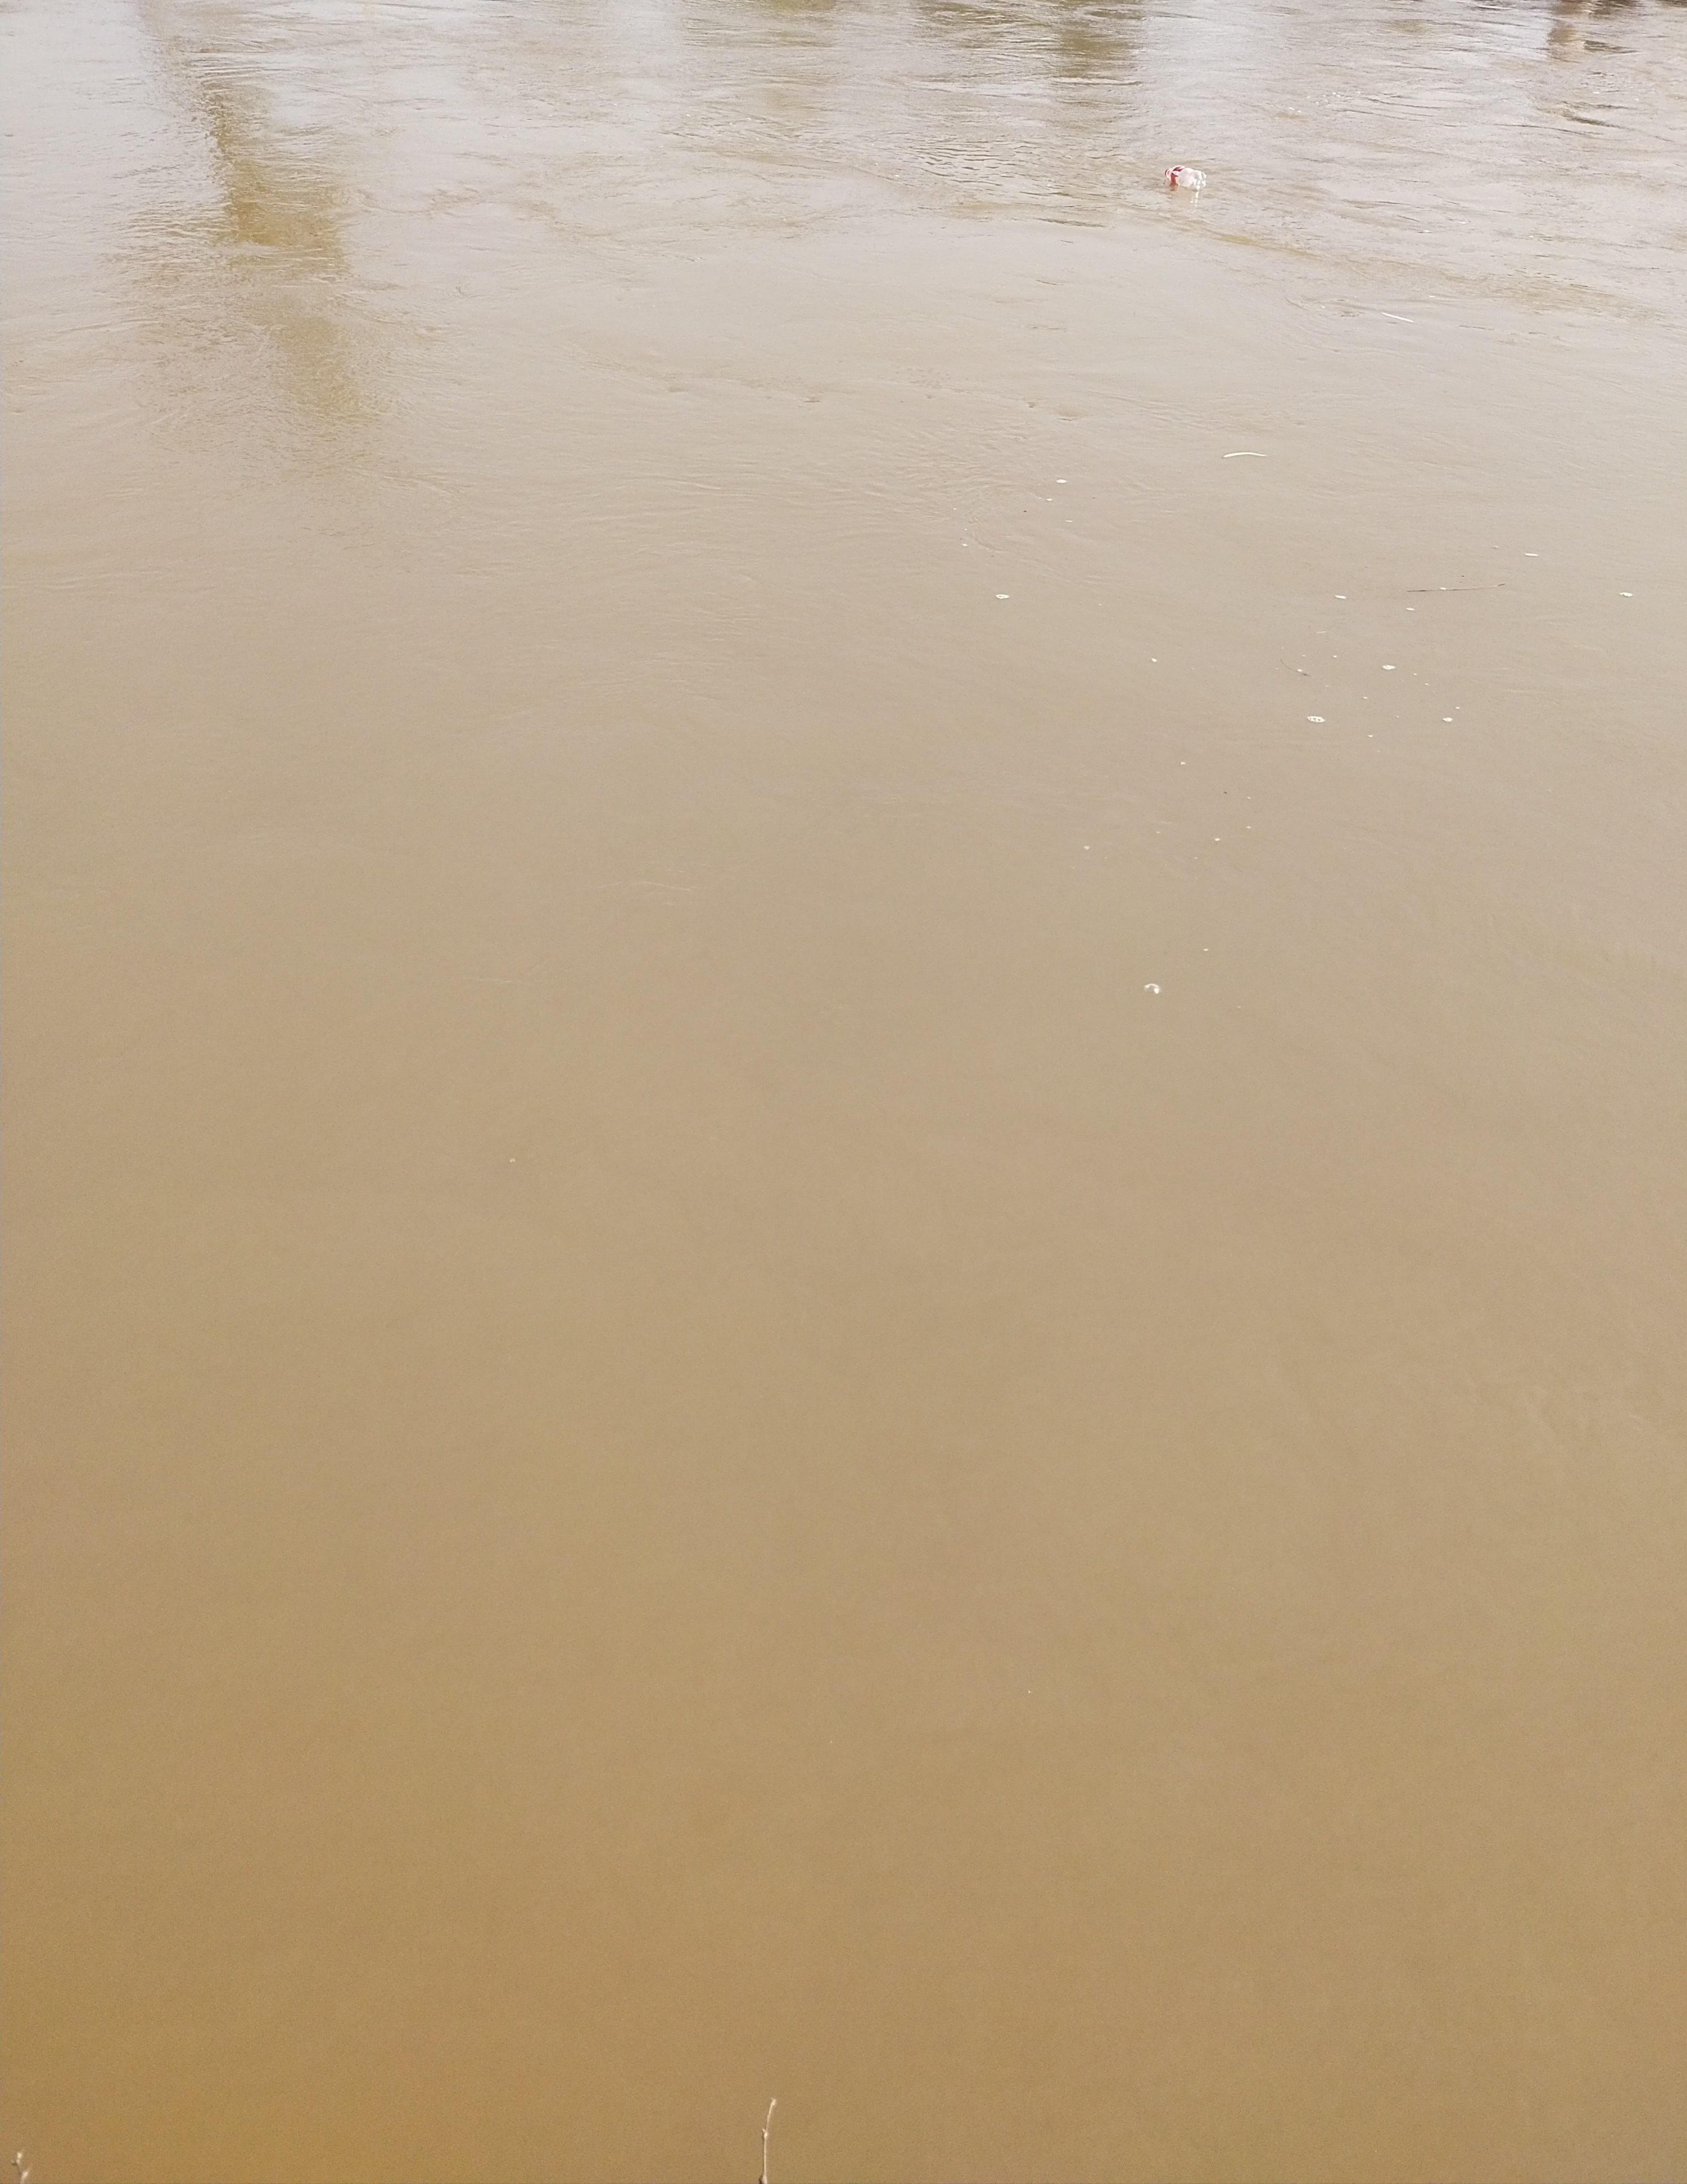Plastic Bottle: (1164, 165, 1205, 190)
